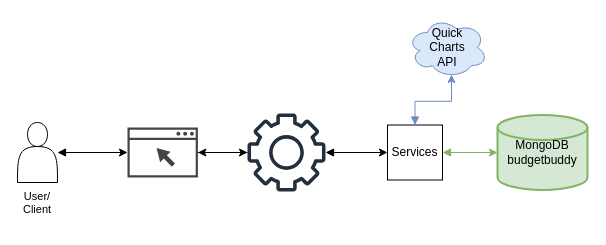
Some shapes in this 606 by 245 pixel diagram are drawn without their labels. The shapes that lost their labels are listed below. From the top down, each one's box as (x1, y1, x2, y2) in pixels, then its label:
(127, 127, 197, 177): BudgetBuddy
(247, 113, 325, 191): BudgetBuddy RestAPI
